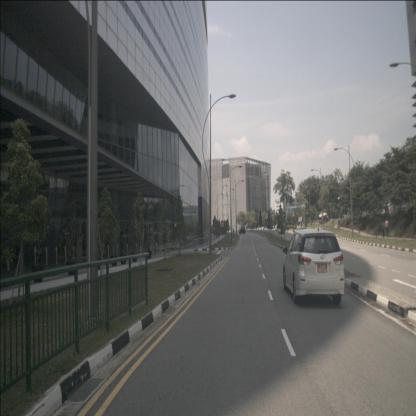human-pedestrian-adult: (385, 218, 389, 238), (382, 220, 386, 239), (206, 232, 209, 246)
vehicle-car: (283, 229, 345, 304), (238, 225, 246, 234)
